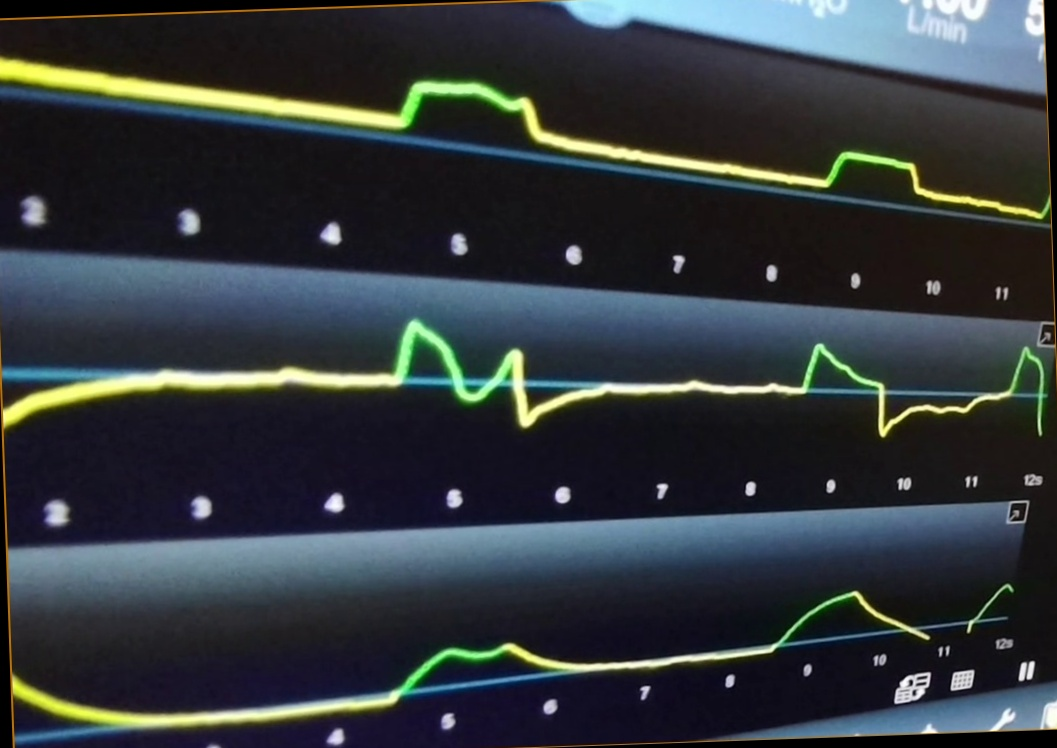Double_Triggering Flow: (3, 314, 1046, 449)
Double_Triggering Volume: (18, 579, 1013, 731)
